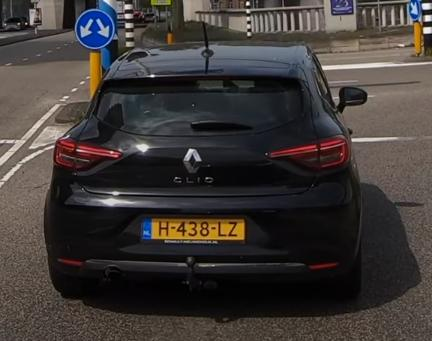license-plate: (141, 215, 250, 246)
